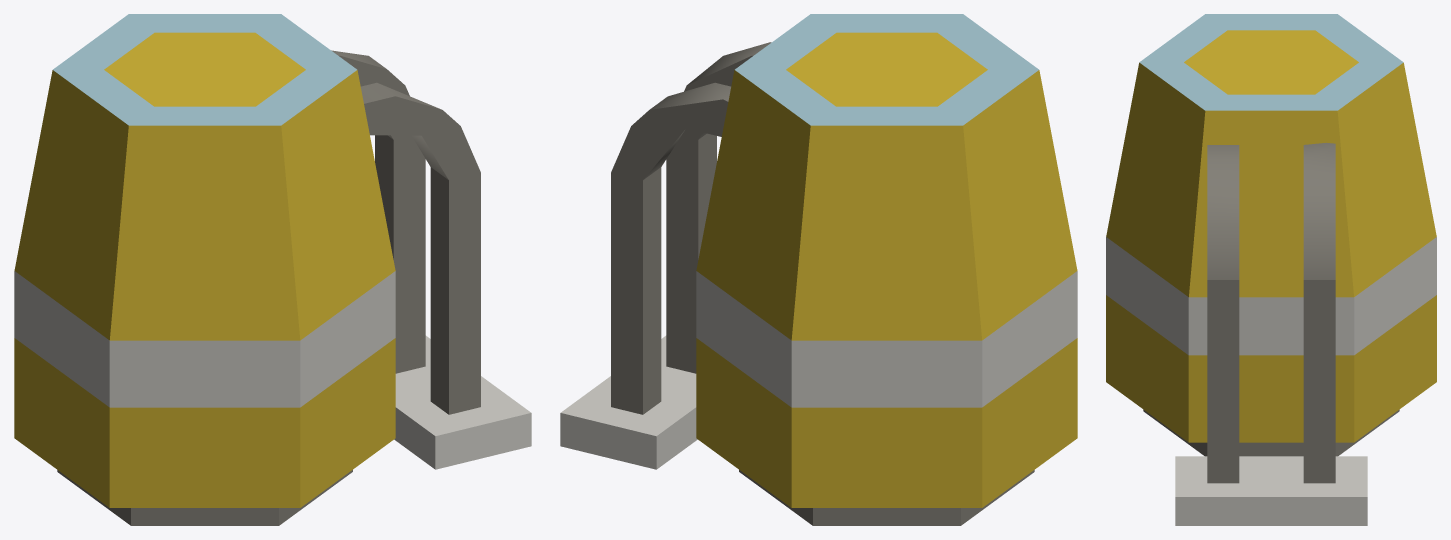
The model's file is cc0-machine-barrel-lod1.glb.
3 renders of one model, left to right at view 1: azimuth 30°, elevation 25°; view 2: azimuth 150°, elevation 25°; view 3: azimuth 270°, elevation 25°, orthographic. The views are drawn at different scales.
Parts seen in each view (by area): view 1: part_0; view 2: part_0; view 3: part_0.
Part boxes in pixels (x1,y1,x2,y2): part_0: (14,14,531,525); part_0: (560,14,1077,525); part_0: (1106,14,1436,525).
Bounding box in the file's own units: 0.6464 × 0.6 × 0.5155.
